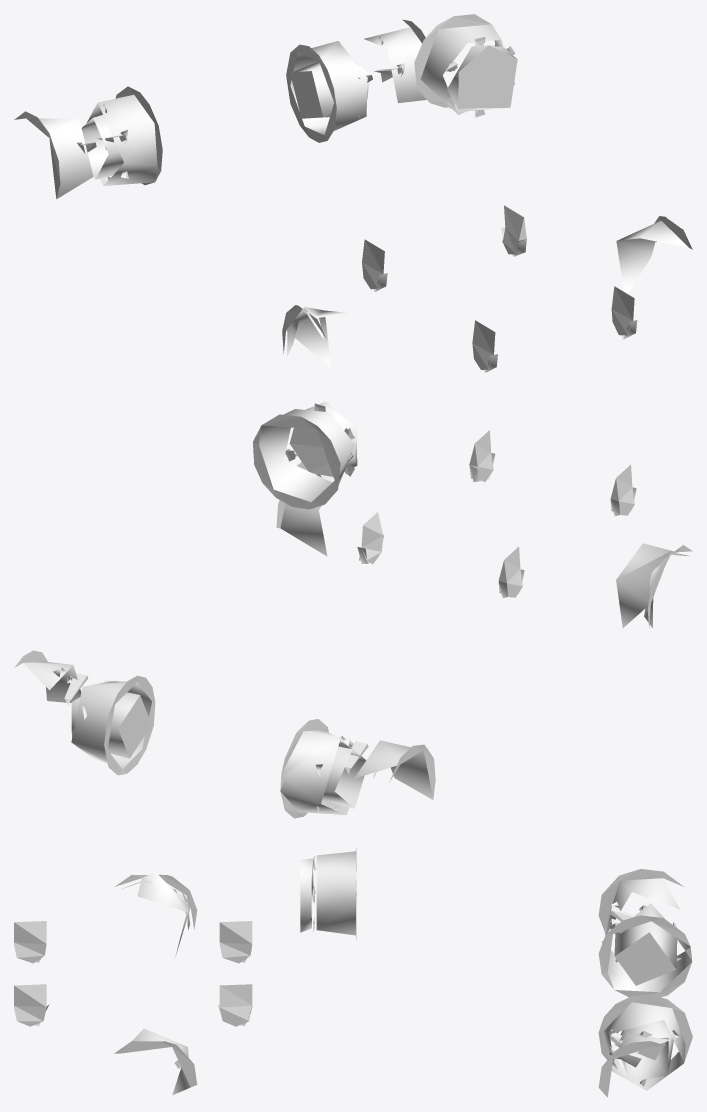
3 views of the same model, one above another, from view 1: azimuth 30°, elevation 25°; view 2: azimuth 150°, elevation 25°; view 3: azimuth 270°, elevation 25° (orthographic). The views are drawn at different scales.
Bounding box in the file's own units: 3.08 × 1.86 × 5.13.
1 material, 1 textured.
